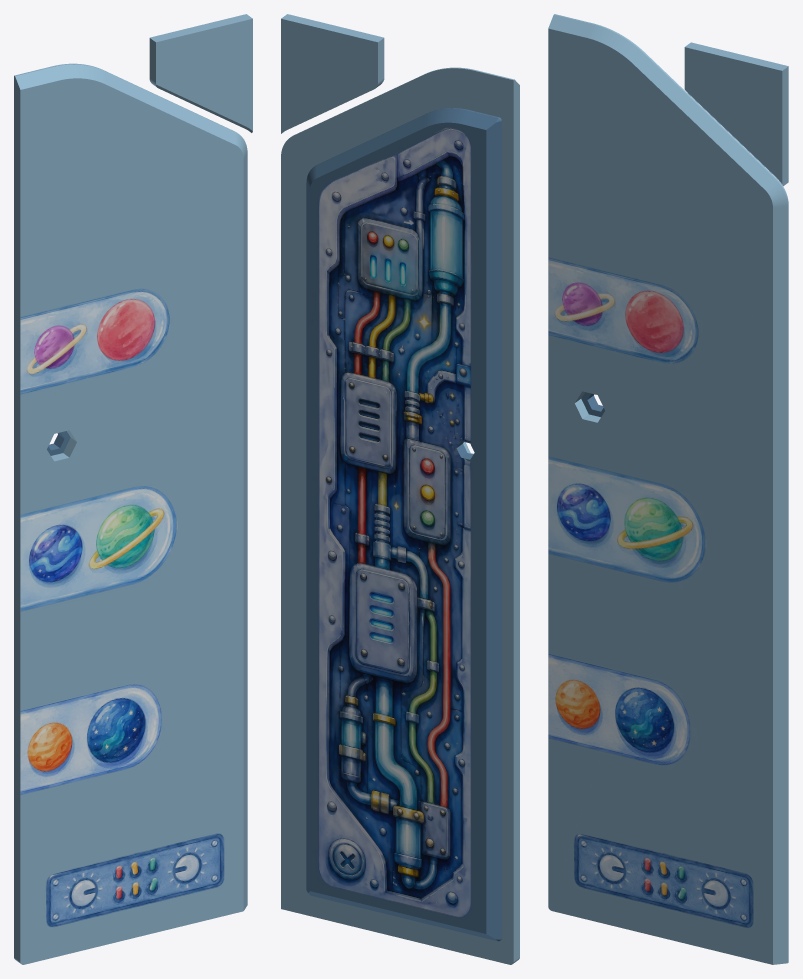
File: door-right-leaf.glb
3 views of the same model, side by side, from view 1: azimuth 30°, elevation 25°; view 2: azimuth 150°, elevation 25°; view 3: azimuth 330°, elevation 25° (orthographic).
Parts seen in each view (by area): view 1: door-right-leaf; view 2: door-right-leaf; view 3: door-right-leaf.
Part boxes in pixels (x1,y1,x2,y2): door-right-leaf: (14, 14, 252, 964); door-right-leaf: (281, 14, 519, 964); door-right-leaf: (548, 14, 788, 964).
Bounding box in the file's own units: 251 × 919 × 24.
Materials: 4 (2 with a texture image).
